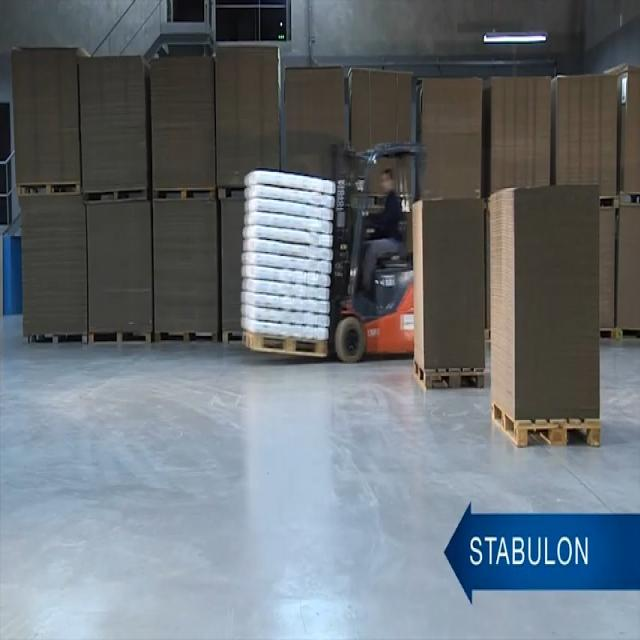Chariot elevateur: (331, 135, 428, 373)
Palette: (486, 401, 607, 451), (238, 324, 331, 368), (409, 359, 486, 404), (84, 180, 152, 212), (151, 321, 220, 352), (89, 319, 152, 352), (152, 182, 218, 206), (21, 325, 88, 348), (15, 179, 82, 200), (214, 181, 244, 204), (618, 322, 640, 342), (223, 326, 241, 350), (600, 191, 619, 209), (602, 324, 617, 340)
